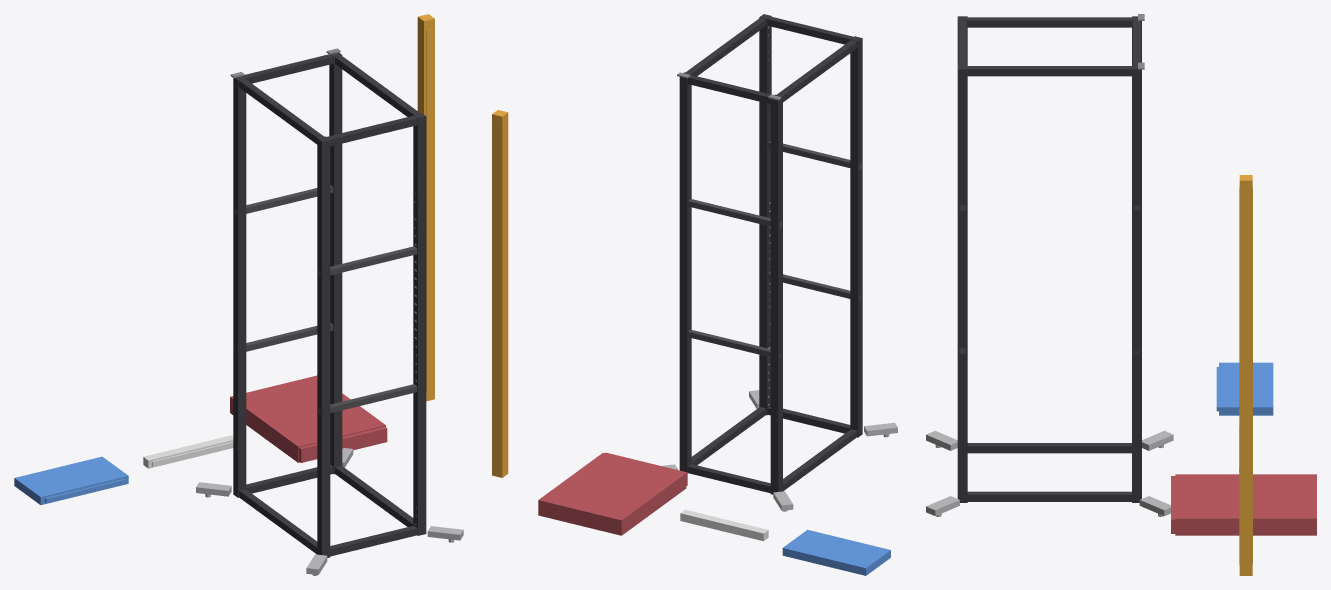
File: rackV1.fbx
The picture shows the model from 3 angles, left to right: view 1: azimuth 30°, elevation 25°; view 2: azimuth 150°, elevation 25°; view 3: azimuth 270°, elevation 25°; orthographic projection. The views are drawn at different scales.
Parts seen in each view (by area): view 1: Server_2U, Rail_FL, Rail_FR, Rail_BL, Rail_BR, PDU_Vertical, Switch_1U_24p, PatchPanel_1U, TopRing_Right, TopRing_Left, BottomRing_Left, BottomRing_Right (+8 smaller); view 2: Server_2U, PDU_Vertical, Rail_BL, Rail_FL, Rail_BR, Rail_FR, Switch_1U_24p, PatchPanel_1U, TopRing_Left, BottomRing_Right, BottomRing_Left, TopRing_Right (+8 smaller); view 3: Server_2U, PDU_Vertical, Rail_FR, Rail_BR, Switch_1U_24p, TopRing_Left, BottomRing_Left, BottomRing_Right, TopRing_Right.
Part boxes in pixels (bbox=[...]): Server_2U: bbox=[230, 375, 387, 462]; Rail_FL: bbox=[317, 136, 330, 557]; Rail_FR: bbox=[413, 113, 426, 535]; Rail_BL: bbox=[233, 76, 246, 497]; Rail_BR: bbox=[329, 52, 342, 474]; PDU_Vertical: bbox=[417, 14, 434, 401]; Switch_1U_24p: bbox=[14, 456, 128, 504]; PatchPanel_1U: bbox=[143, 435, 233, 468]; TopRing_Right: bbox=[335, 55, 424, 125]; TopRing_Left: bbox=[239, 79, 328, 147]; BottomRing_Left: bbox=[239, 489, 329, 555]; BottomRing_Right: bbox=[335, 465, 425, 533]; Server_2U: bbox=[538, 452, 687, 535]; PDU_Vertical: bbox=[492, 110, 508, 477]; Rail_BL: bbox=[770, 94, 782, 494]; Rail_FL: bbox=[850, 36, 862, 437]; Rail_BR: bbox=[679, 72, 691, 472]; Rail_FR: bbox=[759, 14, 771, 415]; Switch_1U_24p: bbox=[782, 529, 890, 575]; PatchPanel_1U: bbox=[680, 509, 768, 541]; TopRing_Left: bbox=[771, 40, 857, 105]; BottomRing_Right: bbox=[680, 407, 766, 471]; BottomRing_Left: bbox=[771, 429, 857, 493]; TopRing_Right: bbox=[682, 18, 766, 82]; Server_2U: bbox=[1171, 474, 1316, 535]; PDU_Vertical: bbox=[1239, 175, 1252, 575]; Rail_FR: bbox=[957, 65, 967, 502]; Rail_BR: bbox=[1132, 65, 1141, 502]; Switch_1U_24p: bbox=[1216, 362, 1273, 415]; TopRing_Left: bbox=[967, 17, 1131, 27]; BottomRing_Left: bbox=[967, 443, 1131, 453]; BottomRing_Right: bbox=[967, 491, 1131, 501]; TopRing_Right: bbox=[967, 66, 1131, 76].
Size of the model in its own units: 222 by 223 by 179.
